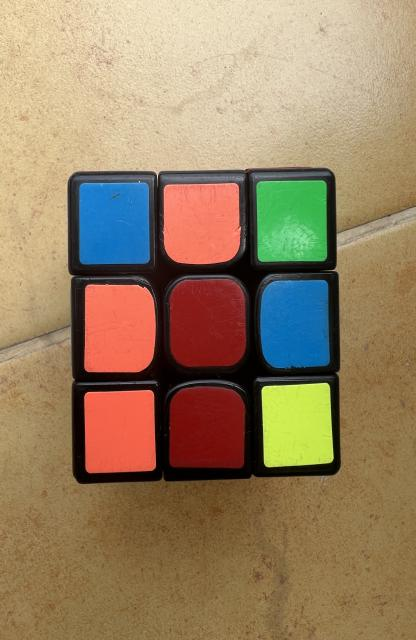Blue: (260, 280, 330, 369), (79, 182, 150, 265)
Green: (257, 180, 327, 262)
Orange: (164, 182, 242, 264), (84, 285, 156, 372), (84, 390, 156, 474)
Red: (169, 279, 246, 368), (169, 386, 246, 469)
Yellow: (261, 382, 334, 468)
